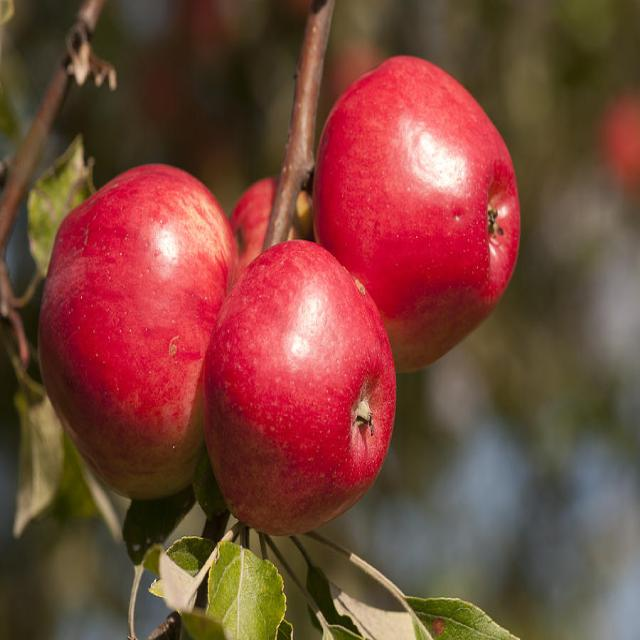apple_fruit: (34, 155, 243, 513), (307, 49, 531, 371), (201, 239, 392, 543)
